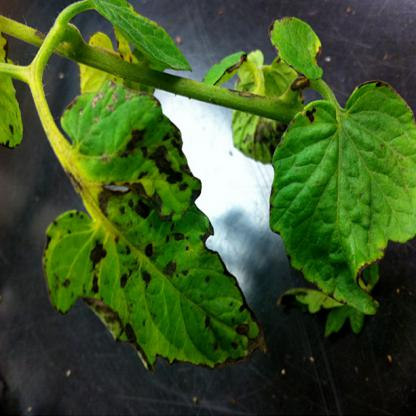Tomato leaf bacterial spot: (25, 88, 267, 366), (261, 85, 413, 344)
